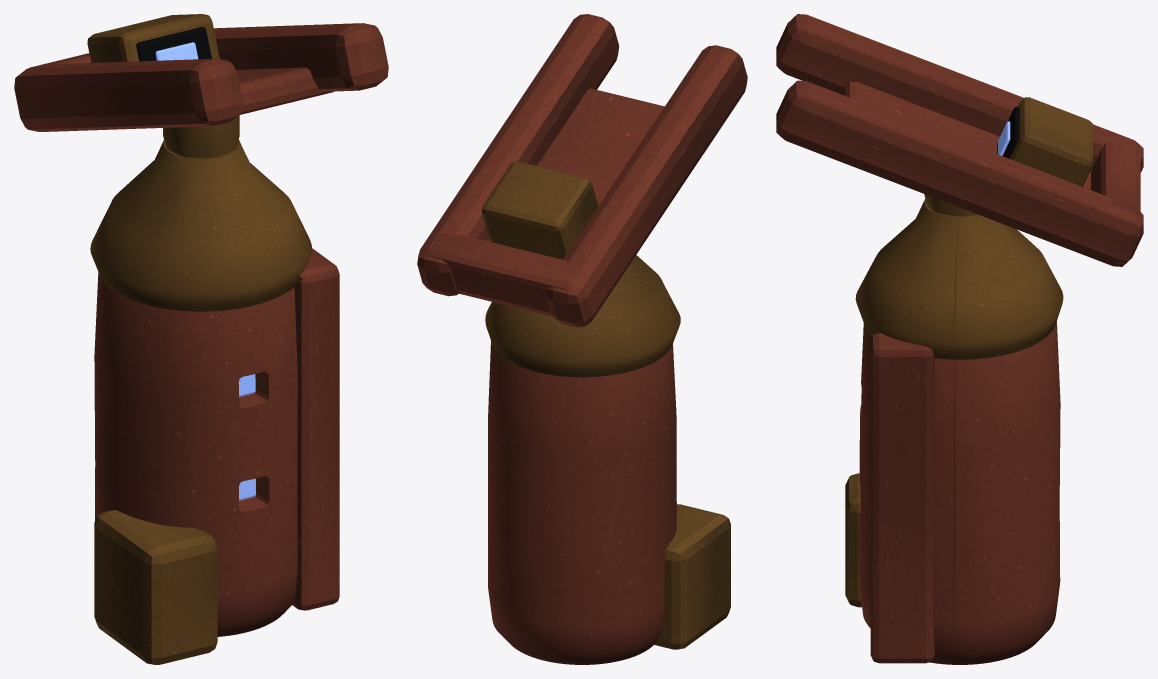
3 renders of one model, left to right at view 1: azimuth 30°, elevation 25°; view 2: azimuth 150°, elevation 25°; view 3: azimuth 270°, elevation 25°, orthographic. The views are drawn at different scales.
Parts seen in each view (by area): view 1: AC20 narrow grounded pedestal, AC20 stationary ochre sloping bearing, AC20 grounded ochre left foot, AC20 coral right vertical relief, AC20 separate fork rail 0, AC20 separate fork rail 1, AC20 seated emitter housing, AC20 fork channel bed, AC20 moving bearing spindle, AC20 recessed dark emitter surround, AC20 emitter aperture; view 2: AC20 narrow grounded pedestal, AC20 separate fork rail 0, AC20 separate fork rail 1, AC20 stationary ochre sloping bearing, AC20 grounded ochre left foot, AC20 seated emitter housing, AC20 fork channel bed, AC20 short rear fork bridge; view 3: AC20 narrow grounded pedestal, AC20 separate fork rail 1, AC20 stationary ochre sloping bearing, AC20 coral right vertical relief, AC20 separate fork rail 0, AC20 seated emitter housing, AC20 short rear fork bridge, AC20 fork channel bed, AC20 grounded ochre left foot.
Part boxes in pixels (box(x1,y1,x2,y2)): AC20 narrow grounded pedestal: box(94, 272, 297, 636); AC20 stationary ochre sloping bearing: box(90, 139, 312, 311); AC20 grounded ochre left foot: box(94, 510, 217, 664); AC20 coral right vertical relief: box(292, 248, 339, 610); AC20 separate fork rail 0: box(14, 58, 242, 131); AC20 separate fork rail 1: box(214, 23, 388, 91); AC20 seated emitter housing: box(87, 14, 219, 62); AC20 fork channel bed: box(236, 67, 333, 114); AC20 moving bearing spindle: box(163, 115, 239, 158); AC20 recessed dark emitter surround: box(136, 27, 211, 61); AC20 emitter aperture: box(155, 42, 198, 60); AC20 narrow grounded pedestal: box(488, 341, 676, 664); AC20 separate fork rail 0: box(545, 45, 747, 327); AC20 separate fork rail 1: box(417, 14, 619, 296); AC20 stationary ochre sloping bearing: box(485, 255, 680, 377); AC20 grounded ochre left foot: box(654, 504, 730, 649); AC20 seated emitter housing: box(482, 161, 598, 259); AC20 fork channel bed: box(459, 88, 664, 316); AC20 short rear fork bridge: box(427, 233, 579, 314); AC20 narrow grounded pedestal: box(859, 321, 1060, 664); AC20 separate fork rail 1: box(776, 80, 1143, 266); AC20 stationary ochre sloping bearing: box(855, 199, 1063, 359); AC20 coral right vertical relief: box(870, 333, 934, 663); AC20 separate fork rail 0: box(776, 14, 1143, 172); AC20 seated emitter housing: box(1009, 97, 1092, 186); AC20 short rear fork bridge: box(1091, 133, 1140, 218); AC20 fork channel bed: box(841, 82, 1090, 189); AC20 grounded ochre left foot: box(845, 473, 861, 607).
Size of the model in its own units: 0.6314 by 1.78 by 1.03.
4 materials, 3 textured.
